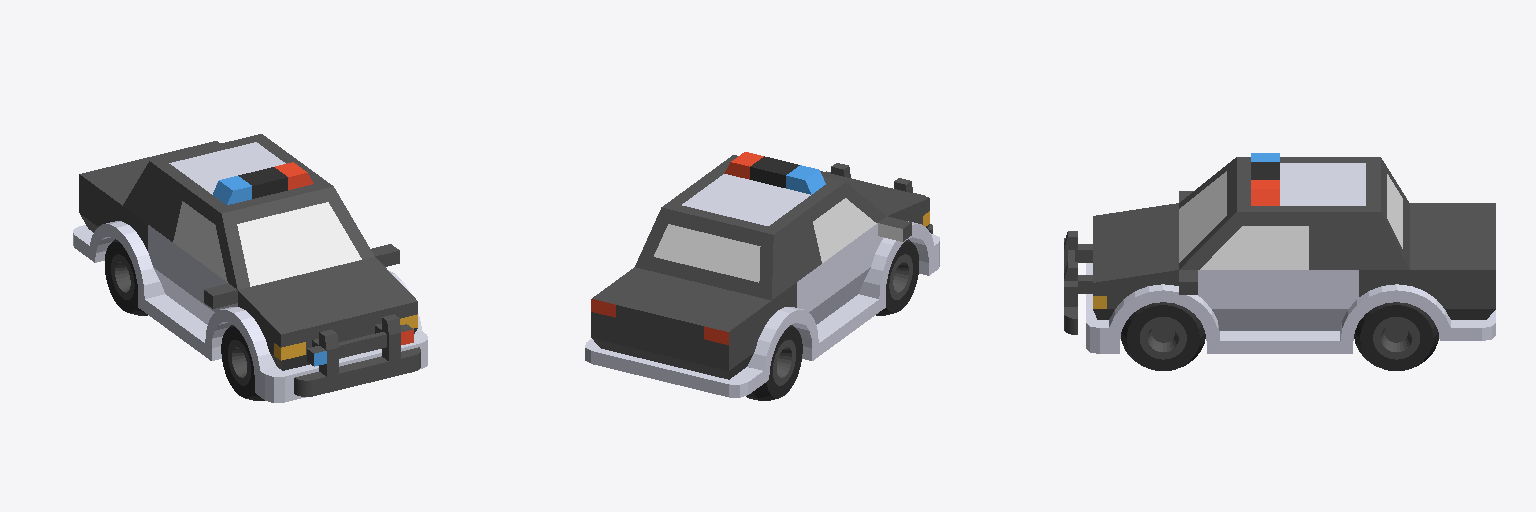
File: police.obj
3 views of the same model, side by side, from view 1: azimuth 30°, elevation 25°; view 2: azimuth 150°, elevation 25°; view 3: azimuth 270°, elevation 25° (orthographic).
Parts seen in each view (by area): view 1: body, grill, wheel_frontRight, wheel_backRight; view 2: body, wheel_backRight, wheel_frontRight; view 3: body, wheel_backLeft, wheel_frontLeft, grill.
Boxes of the visible parts, x1=… form: body: x1=73, y1=134, x2=427, y2=402; grill: x1=294, y1=314, x2=420, y2=396; wheel_frontRight: x1=221, y1=325, x2=264, y2=400; wheel_backRight: x1=105, y1=239, x2=147, y2=315; body: x1=585, y1=152, x2=939, y2=397; wheel_backRight: x1=746, y1=325, x2=802, y2=400; wheel_frontRight: x1=876, y1=239, x2=918, y2=315; body: x1=1086, y1=153, x2=1495, y2=353; wheel_backLeft: x1=1354, y1=302, x2=1438, y2=370; wheel_frontLeft: x1=1121, y1=302, x2=1205, y2=370; grill: x1=1064, y1=231, x2=1092, y2=334.
Size of the model in its own units: 1.5 by 1.3 by 3.